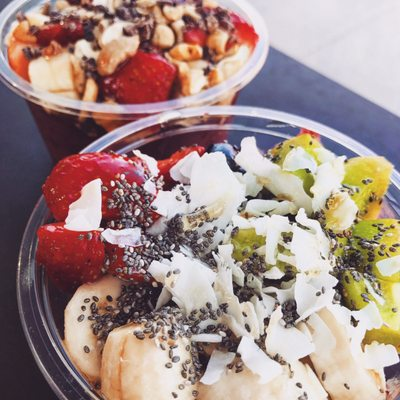sushi: (5, 104, 400, 400), (2, 0, 271, 136)
